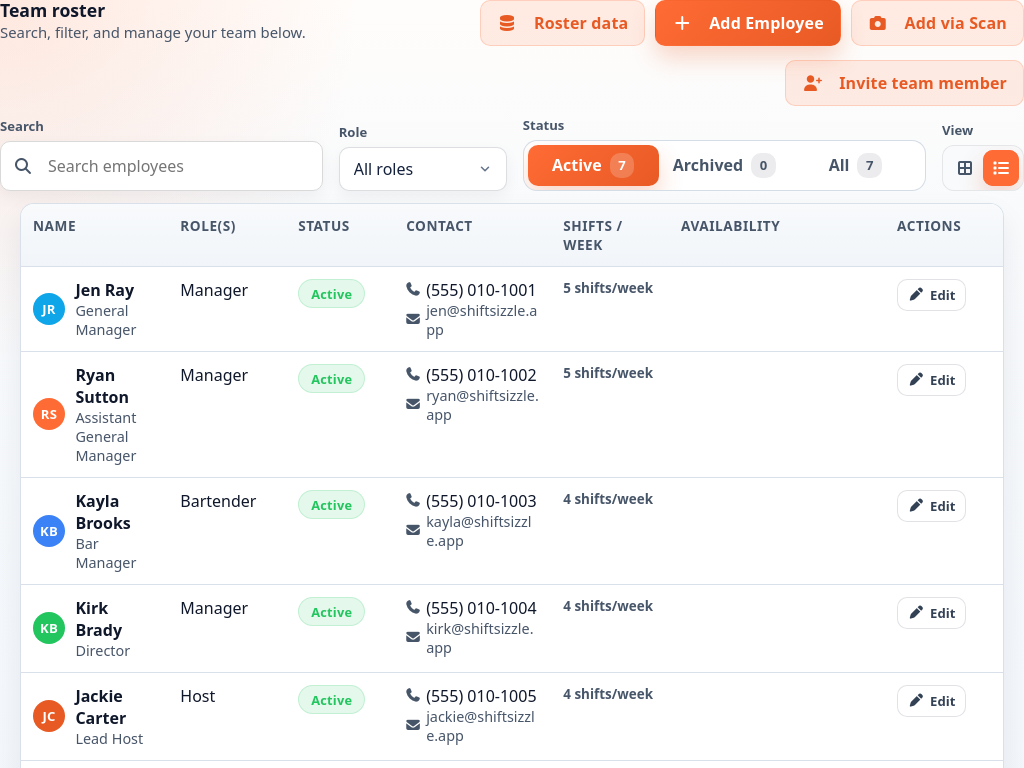
Test: Team view › filters team members by role
The width and height of the screenshot is (1024, 768).
Step 1. Select "Bartender" in the dropdown labelled "Role" → (423, 169), box [339,147,507,191]
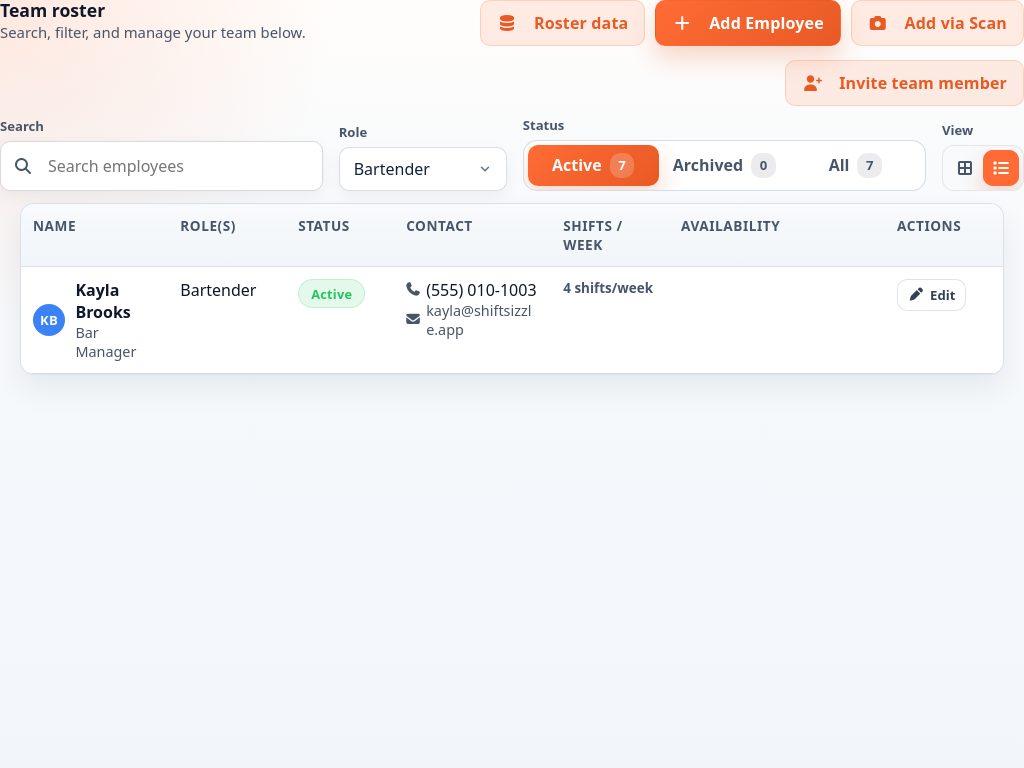
Expected: the text "Kayla Brooks" is shown, [75,279,131,323]
Now the text "Jen Ray" is gone
